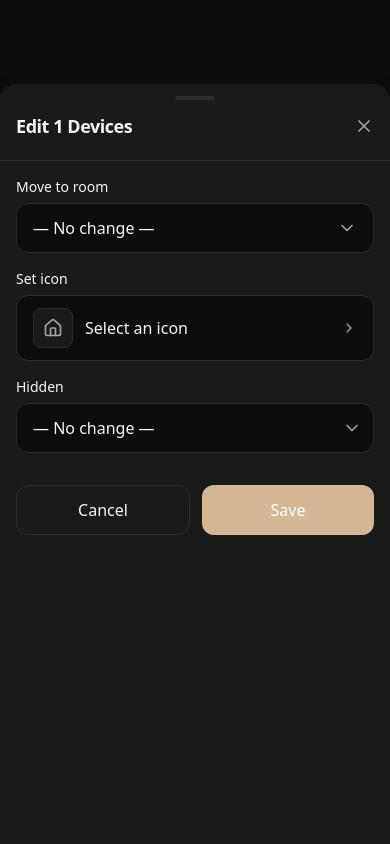
Test: BulkEditDevicesModal › Combined & Edge Cases › should show error toast on API failure
Select "Hide all" in the dropdown at (195, 428), box x1=16 y1=403 x2=374 y2=453
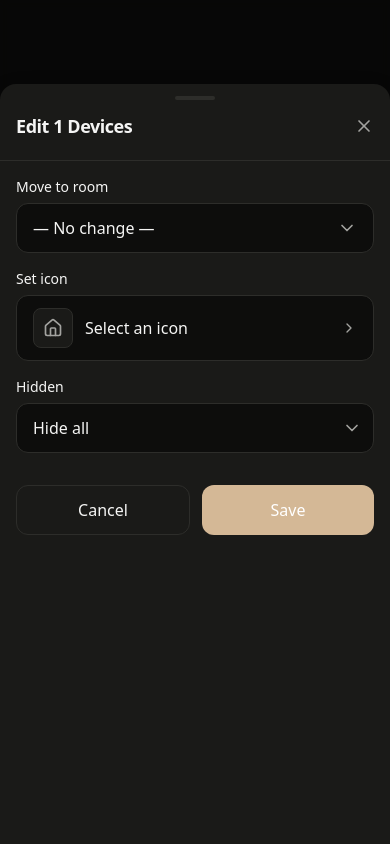
Click the button "Save" at (288, 510), box x1=202 y1=485 x2=374 y2=535
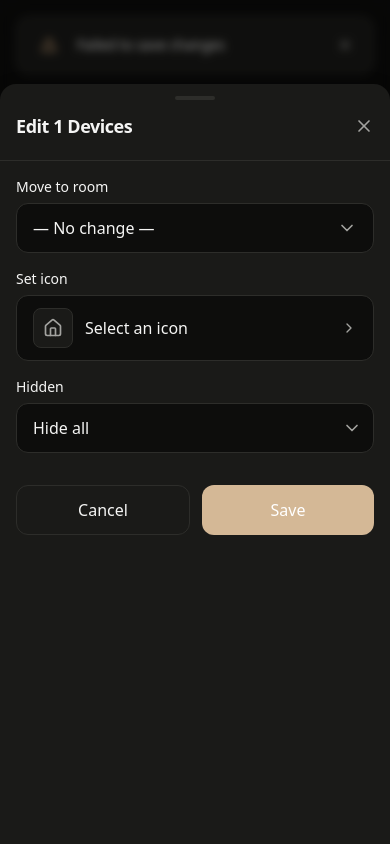
Result: the text "Failed to save changes" is shown at x1=77 y1=35 x2=225 y2=54
